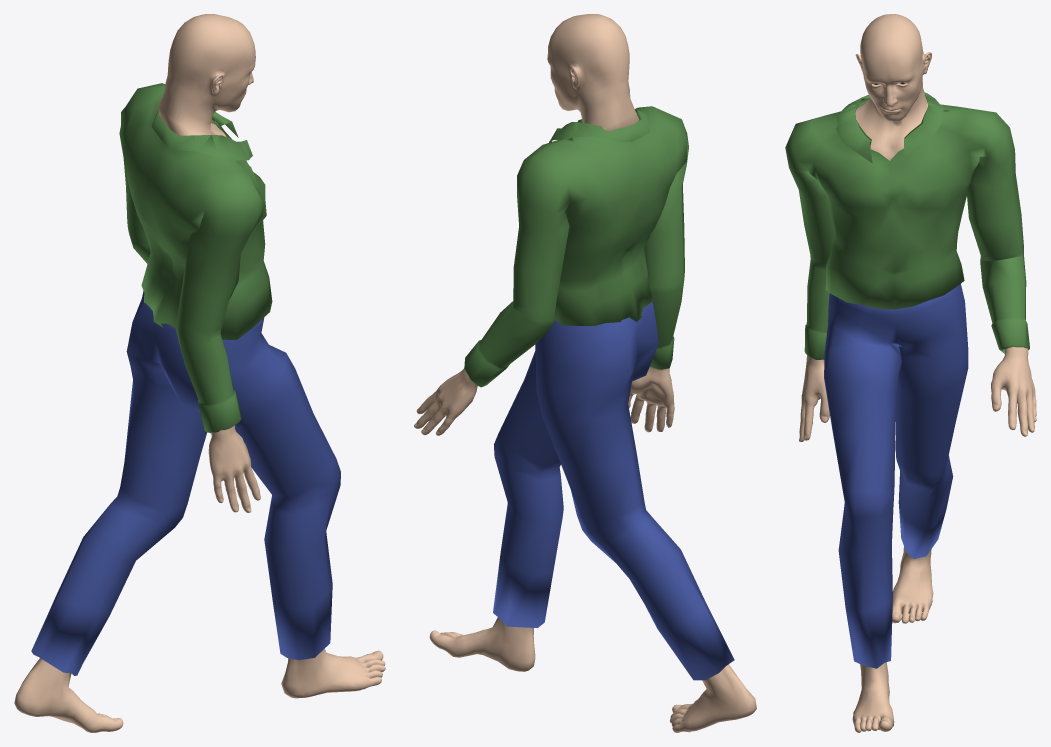
The model's file is walk3.dae.
3 renders of one model, left to right at view 1: azimuth 30°, elevation 25°; view 2: azimuth 150°, elevation 25°; view 3: azimuth 270°, elevation 25°, orthographic. The views are drawn at different scales.
Parts seen in each view (by area): view 1: human; view 2: human; view 3: human.
Part boxes in pixels (x1,y1,x2,y2): human: [14, 14, 385, 732]; human: [414, 14, 756, 732]; human: [785, 14, 1036, 732].
Bounding box in the file's own units: 0.8704 × 0.5812 × 1.66.
